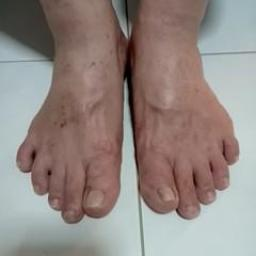Front View -Both Feet-: (4, 10, 251, 234)
